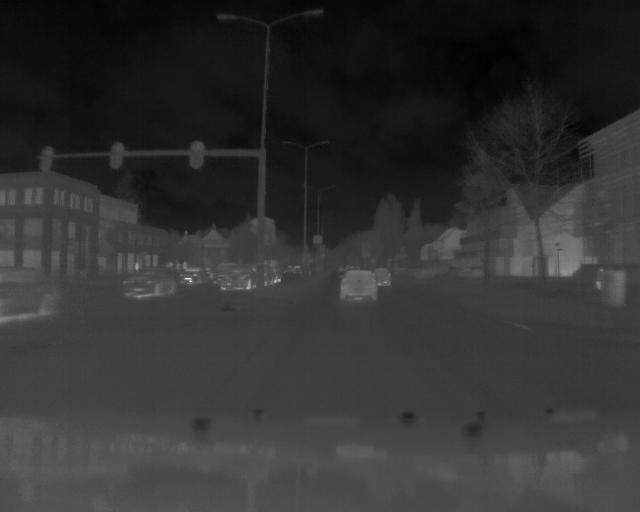car: (118, 262, 176, 297), (339, 268, 379, 303), (220, 262, 260, 291), (179, 265, 209, 287), (372, 265, 393, 291)
